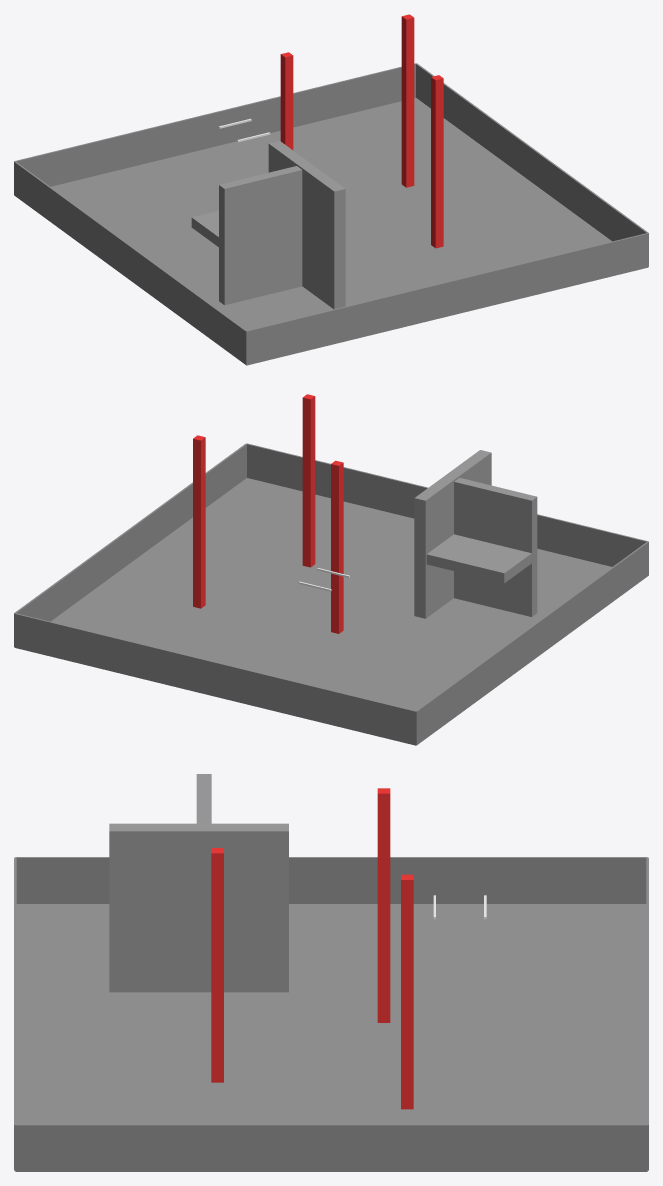
The model's file is lab3external.dae.
3 views of the same model, one above another, from view 1: azimuth 30°, elevation 25°; view 2: azimuth 150°, elevation 25°; view 3: azimuth 270°, elevation 25° (orthographic). The views are drawn at different scales.
Visible parts, largest first — view 1: basefloor (×5), basewall (×3), basepole (×3); view 2: basefloor (×5), basewall (×3), basepole (×3); view 3: basefloor (×5), basewall (×2), basepole (×3).
Boxes of the visible parts, x1=… form: basefloor (×5): x1=14, y1=63, x2=648, y2=365; basewall (×3): x1=191, y1=140, x2=345, y2=309; basepole (×3): x1=280, y1=14, x2=443, y2=248; basefloor (×5): x1=14, y1=443, x2=648, y2=745; basewall (×3): x1=414, y1=450, x2=537, y2=618; basepole (×3): x1=193, y1=394, x2=343, y2=633; basefloor (×5): x1=14, y1=857, x2=648, y2=1171; basewall (×2): x1=109, y1=774, x2=288, y2=992; basepole (×3): x1=211, y1=788, x2=413, y2=1109.
Size of the model in its own units: 5.02 by 5.02 by 2.05.
